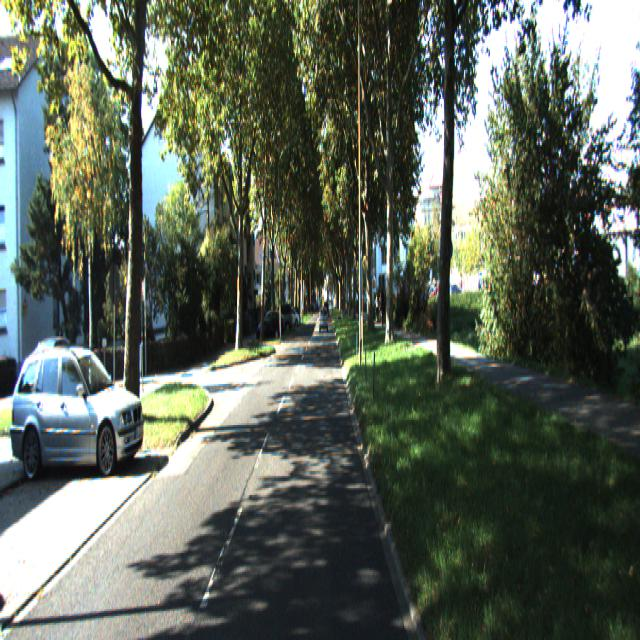Car: (5, 338, 149, 471)
